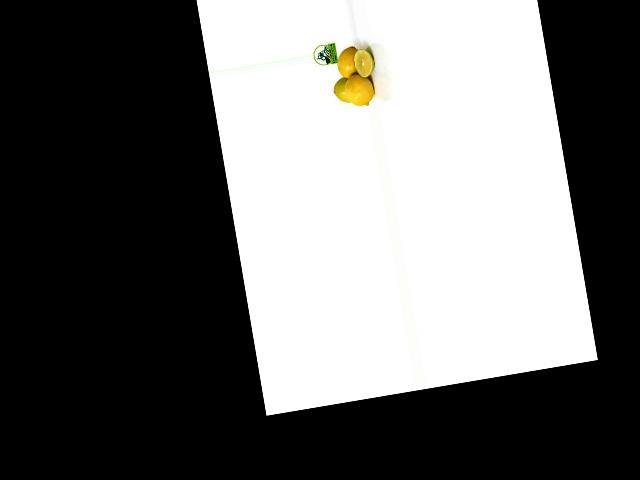lemon: (343, 72, 378, 111)
